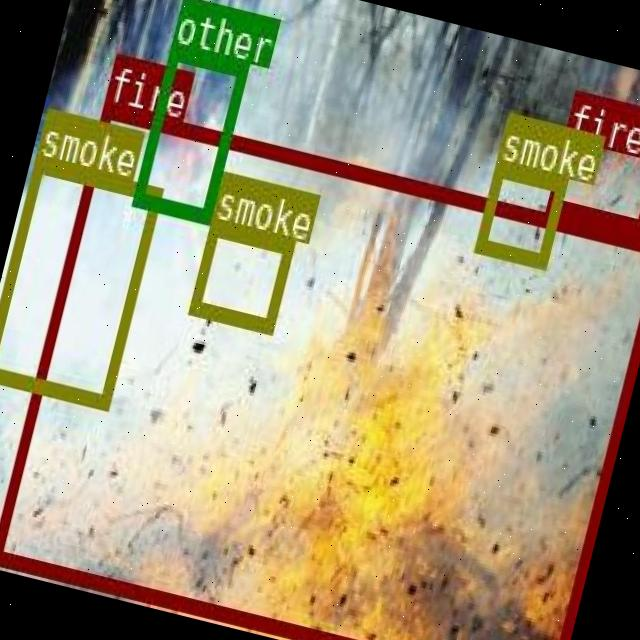fire: (0, 101, 640, 640), (545, 88, 640, 231)
smoke: (0, 154, 162, 406), (187, 218, 294, 332), (473, 158, 566, 266)
